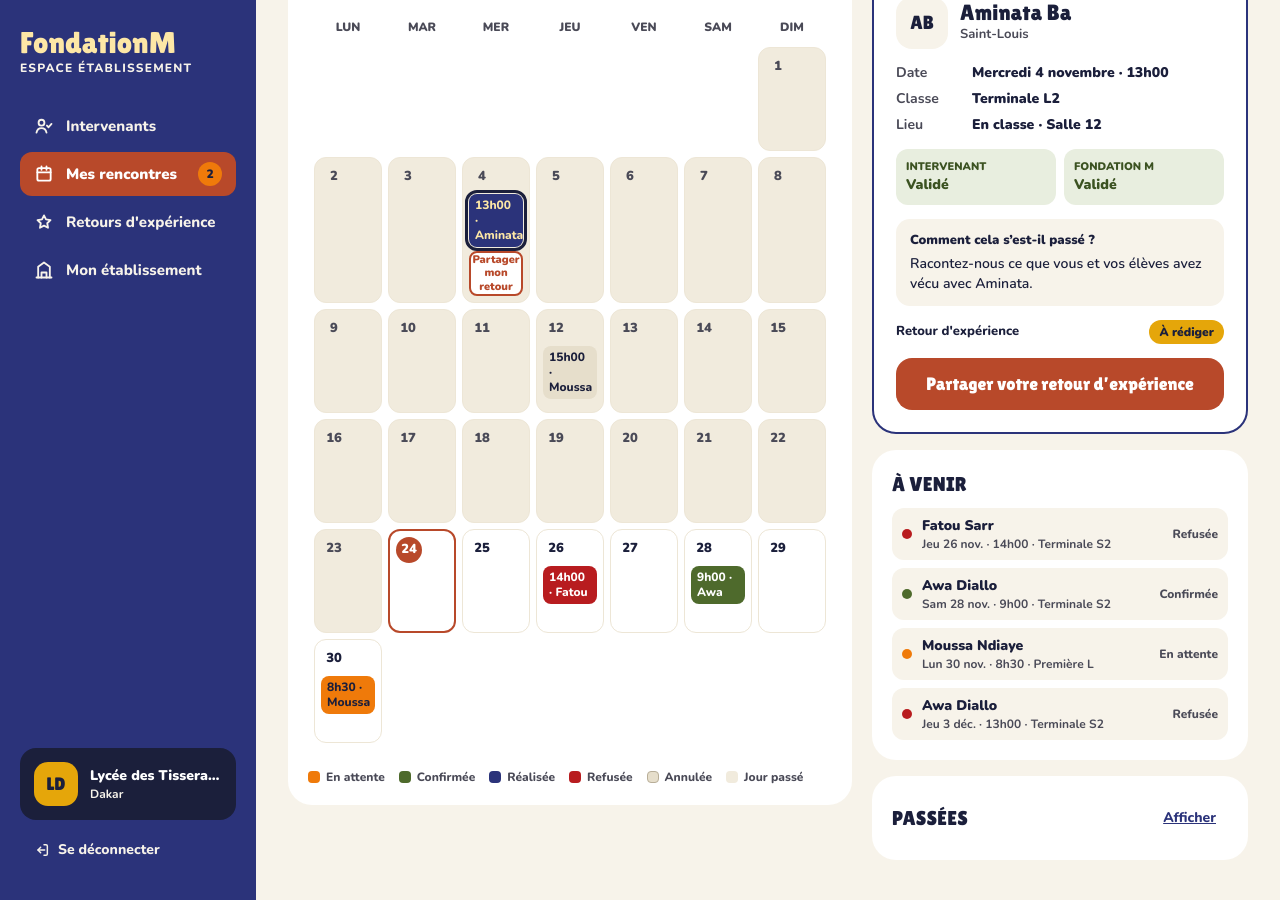
Scenario: Mes rencontres › affiche l’état du retour d’expérience des rencontres réalisées
(page scrolled)
Expected: the text "Comment cela s’est-il passé ?" is shown, [910, 231, 1095, 249]
Expected: the text "À rédiger" is shown, [1149, 320, 1224, 344]
Rencontre d'octobre ouverte par l'URL : le calendrier s'ouvre sur son mois.
Step 1. Click the button named "Afficher les rencontres passées" → coordinates (1190, 818), box [1151, 796, 1228, 840]
(page scrolled)
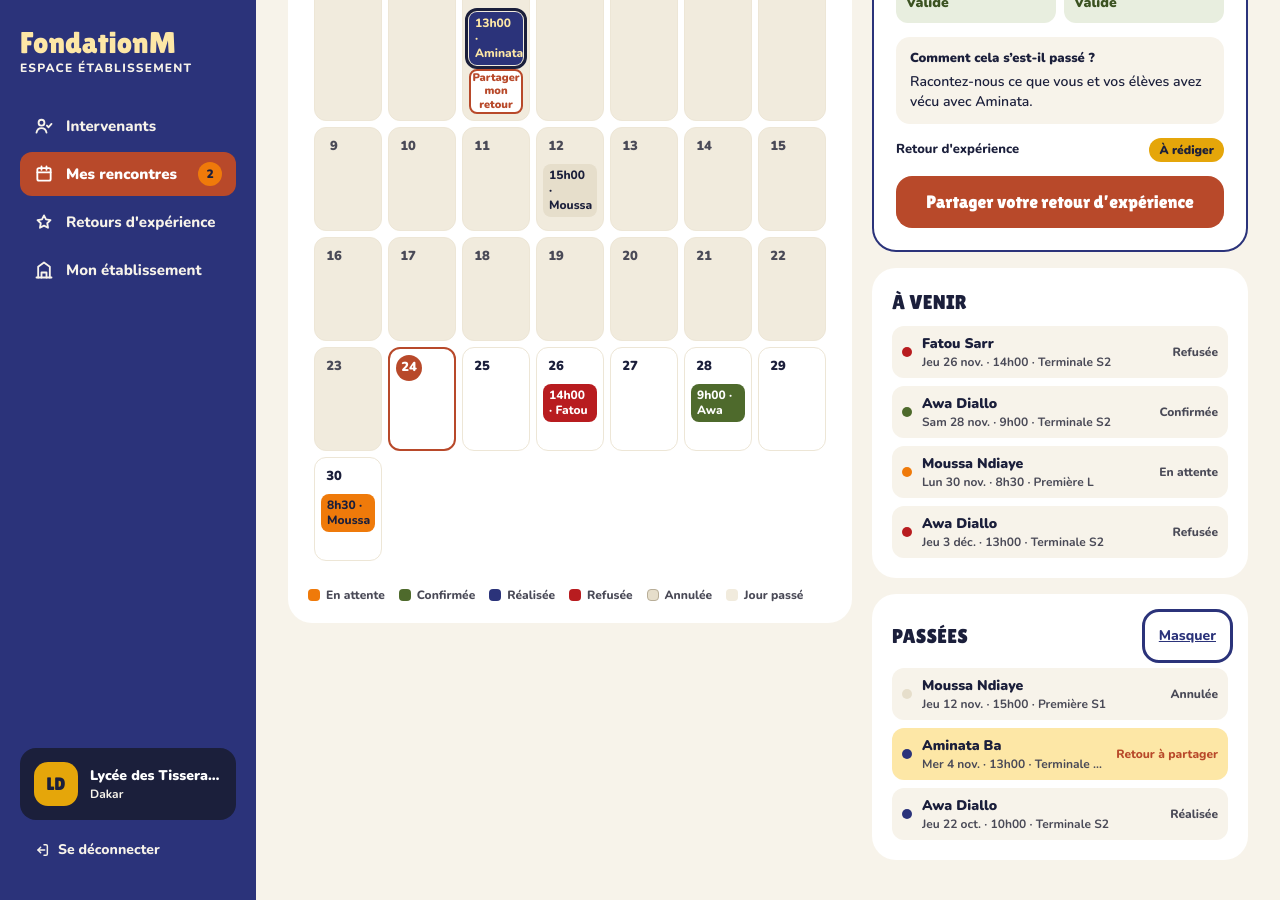
Step 2. Click the button "Awa Diallo Jeu 22 oct. · 10h00 · Terminale S2 Réalisée" → coordinates (1060, 814), box [892, 788, 1228, 840]
(page scrolled)
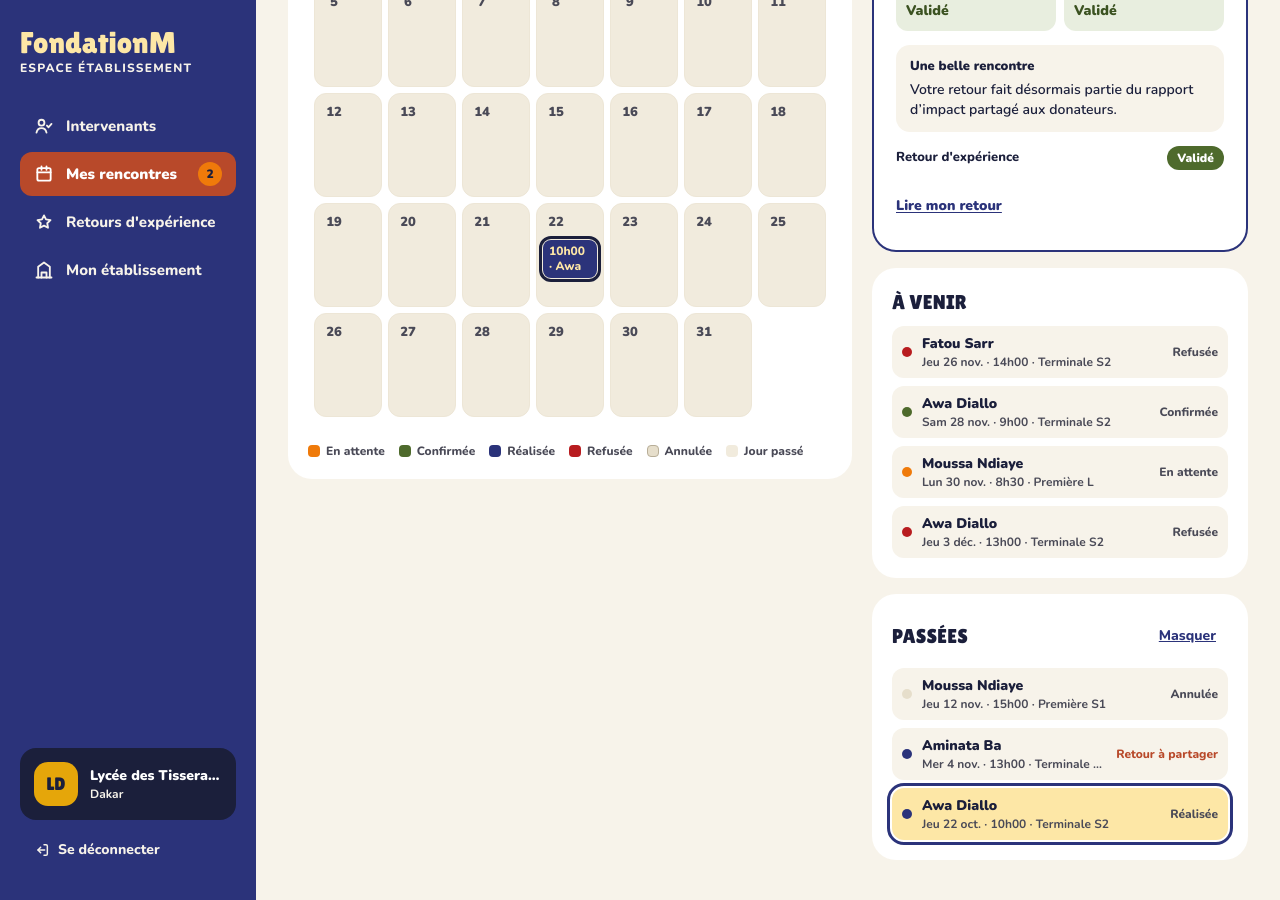
Expected: the text "Une belle rencontre" is shown, [910, 57, 1035, 75]
Expected: the text "Validé" is shown, [1167, 146, 1224, 170]
